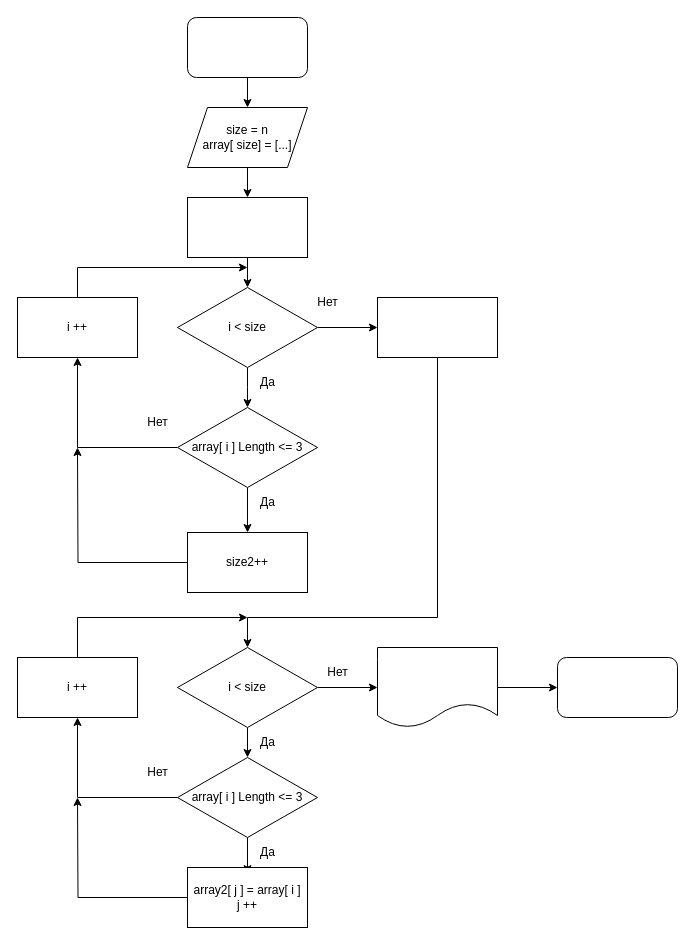
Image size: 695x945. Some labels were removed from this diagram. The centre of each missing label's shape, as x and y in pixels:
array2: (x=437, y=687)
begin: (x=247, y=47)
i = 0 j = 0 array2[ size2 ] = [...]: (x=437, y=327)
i = 0 size2 = 0: (x=247, y=227)
